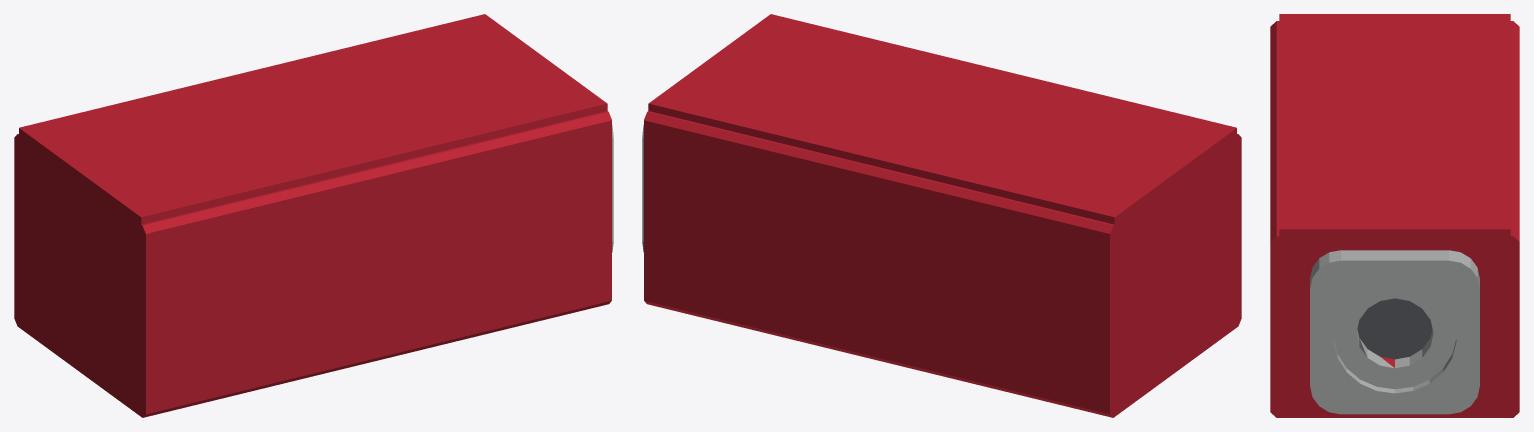
File: rear_camera_link.DAE
3 views of the same model, side by side, from view 1: azimuth 30°, elevation 25°; view 2: azimuth 150°, elevation 25°; view 3: azimuth 270°, elevation 25° (orthographic). The views are drawn at different scales.
Parts seen in each view (by area): view 1: rear_camera_link; view 2: rear_camera_link; view 3: rear_camera_link.
Boxes of the visible parts, x1,y1,x2,y2 form: rear_camera_link: (14, 14, 613, 417); rear_camera_link: (642, 14, 1241, 417); rear_camera_link: (1270, 14, 1519, 417).
Bounding box in the file's own units: 0.173 × 0.0807 × 0.0675.
